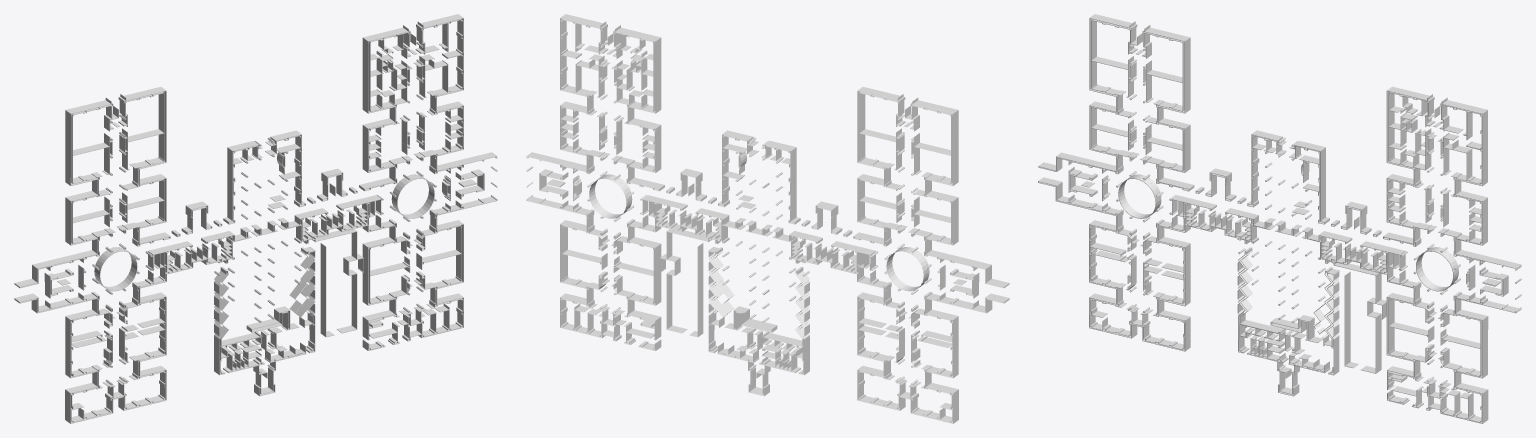
The model's file is wall_1.obj.
3 renders of one model, left to right at view 1: azimuth 30°, elevation 25°; view 2: azimuth 150°, elevation 25°; view 3: azimuth 330°, elevation 25°, orthographic.
Visible parts, largest first — view 1: walls; view 2: walls; view 3: walls.
Part boxes in pixels (left/top/right/bottom): walls: left=14, top=14, right=497, bottom=423; walls: left=526, top=14, right=1009, bottom=423; walls: left=1038, top=14, right=1521, bottom=423.
Size of the model in its own units: 125 by 82.95 by 2.5.
